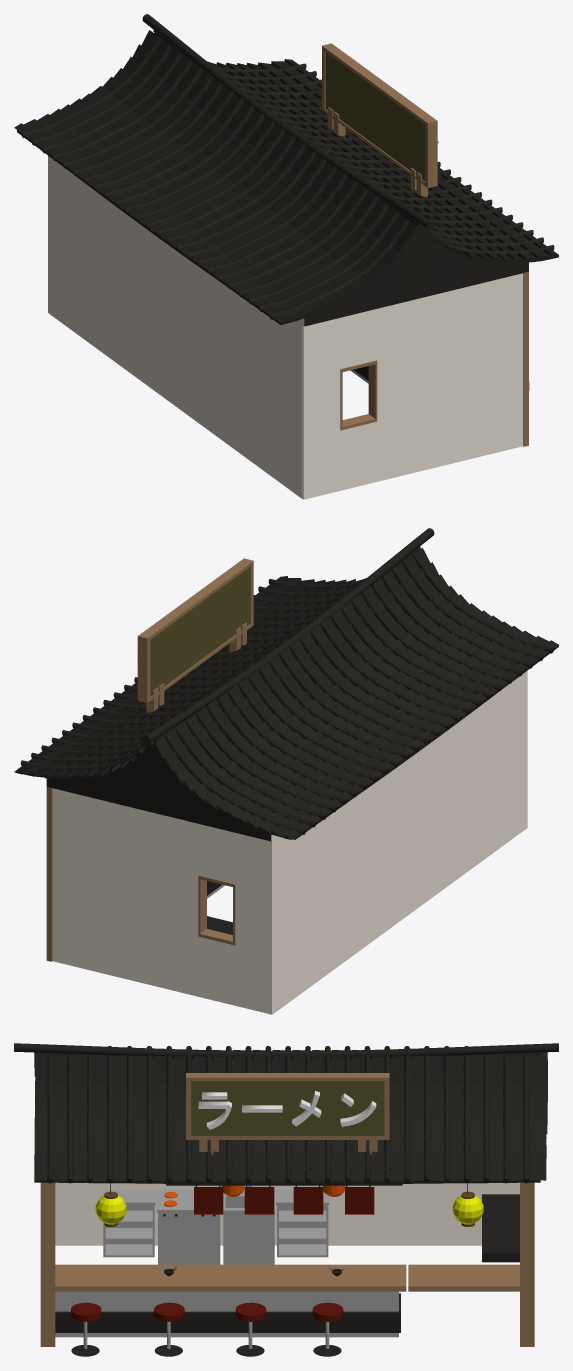
File: Ramen Shop.fbx
The picture shows the model from 3 angles, top to bottom: view 1: azimuth 30°, elevation 25°; view 2: azimuth 150°, elevation 25°; view 3: azimuth 270°, elevation 25°; orthographic projection. The views are drawn at different scales.
Parts seen in each view (by area): view 1: Cube; view 2: Cube; view 3: Cube.
Part boxes in pixels (bbox=[...]): Cube: bbox=[14, 14, 558, 499]; Cube: bbox=[14, 528, 558, 1014]; Cube: bbox=[14, 1043, 558, 1356].
Bounding box in the file's own units: 1587 × 1459 × 2749.
4 materials, 1 textured.
